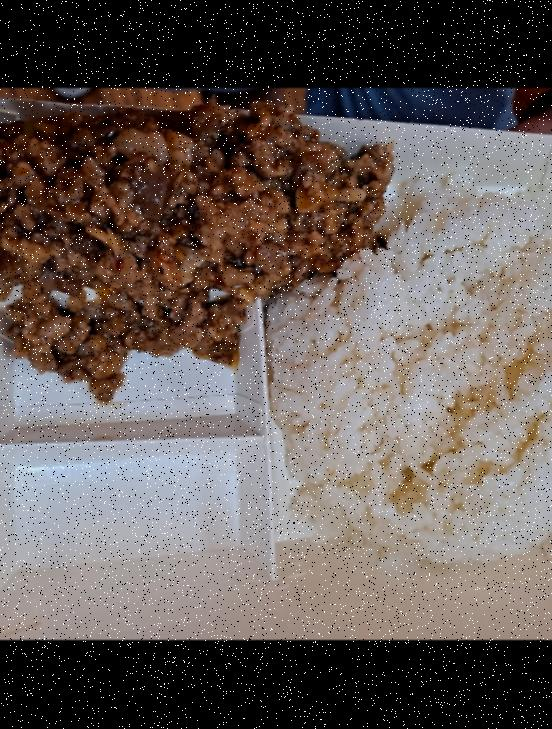box: (0, 98, 552, 620)
stir-fried minced pork: (0, 99, 403, 386)
white rice: (268, 177, 552, 571)
